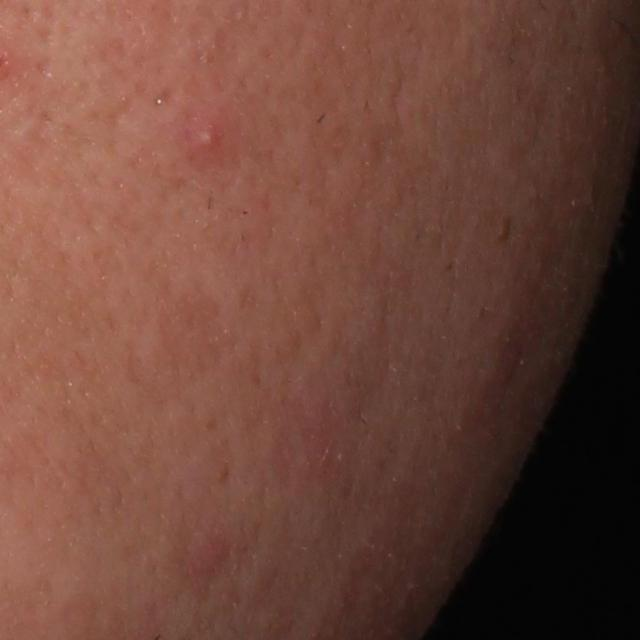pustule: (189, 118, 232, 161)
